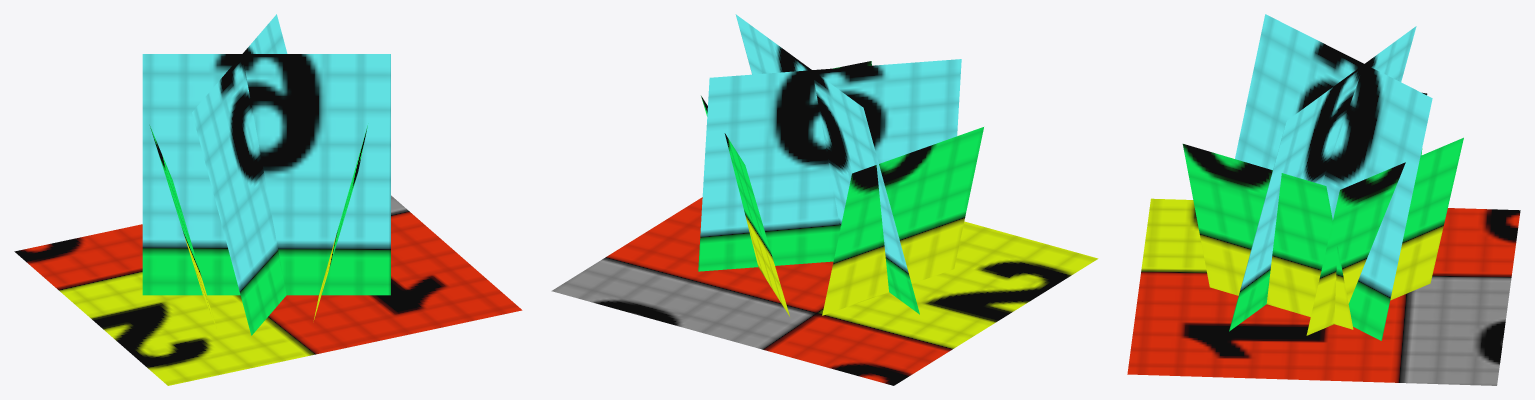
File: GrassMesh02.fbx
The picture shows the model from 3 angles, left to right: view 1: azimuth 30°, elevation 25°; view 2: azimuth 150°, elevation 25°; view 3: azimuth 270°, elevation 25°; orthographic projection. The views are drawn at different scales.
Visible parts, largest first — view 1: Grass02; view 2: Grass02; view 3: Grass02.
Part boxes in pixels (bbox=[...]): Grass02: bbox=[14, 14, 522, 385]; Grass02: bbox=[551, 14, 1098, 385]; Grass02: bbox=[1127, 14, 1520, 385].
Bounding box in the file's own units: 10.76 × 6.81 × 9.55.
Materials: 1 (1 with a texture image).
